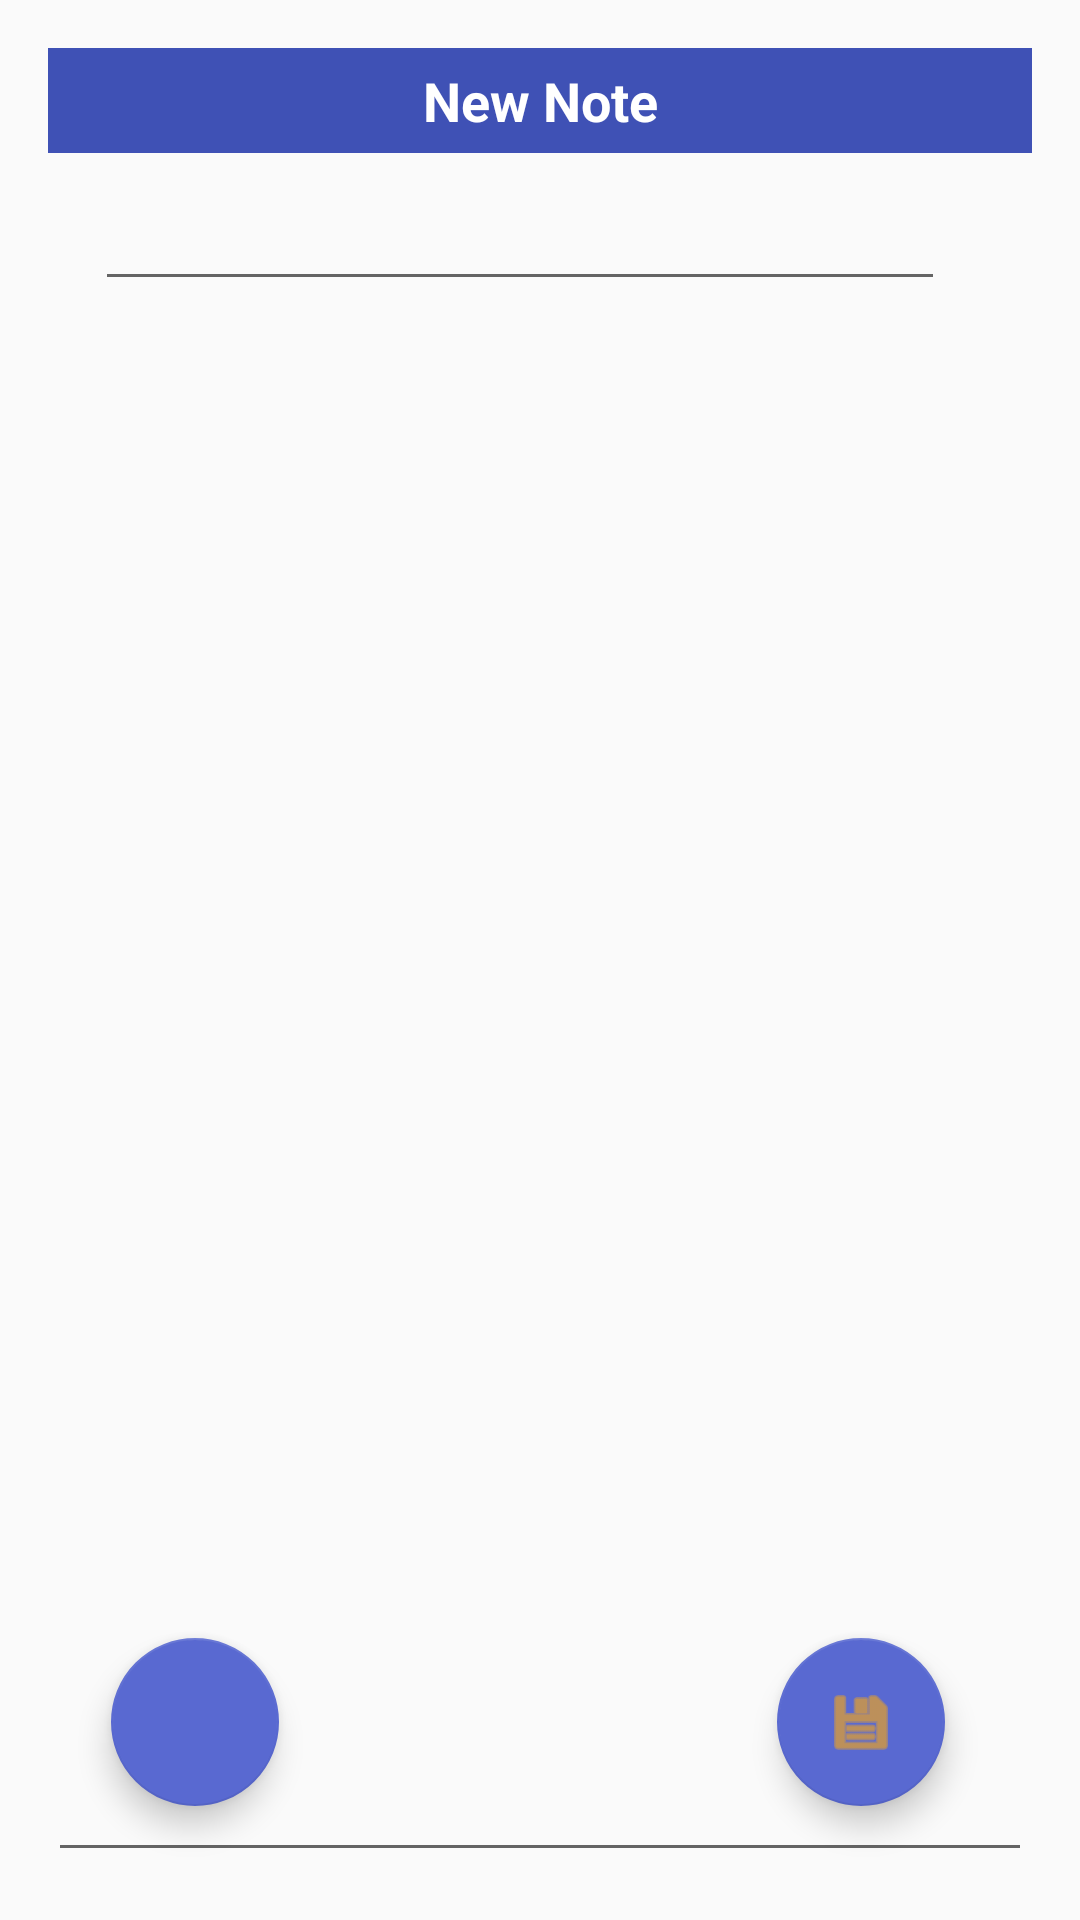

Where to tap for icons on this 1080w x 1920h app screen, as (x=x, y=y):
save: (x=861, y=1722)
